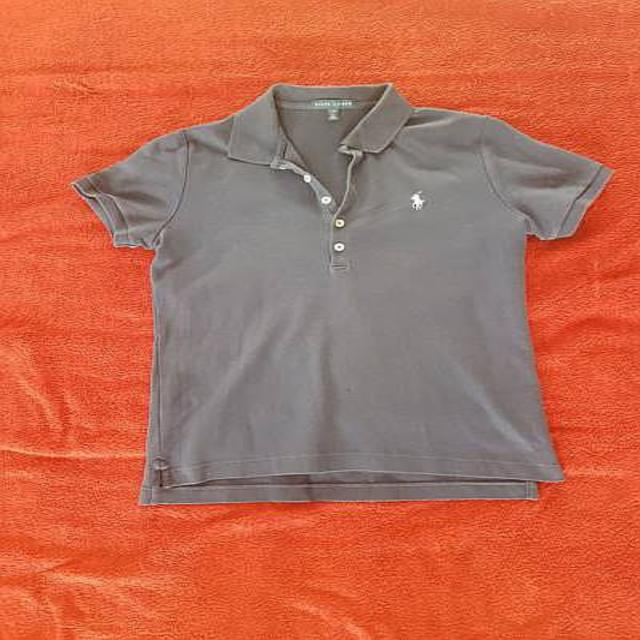T_SHIRT: (66, 72, 631, 507)
